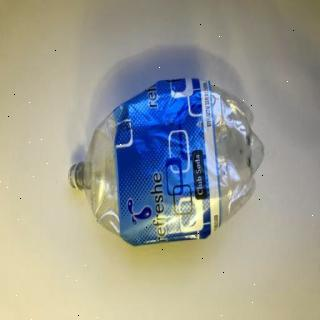Plastic-bottle: (67, 77, 266, 250)
